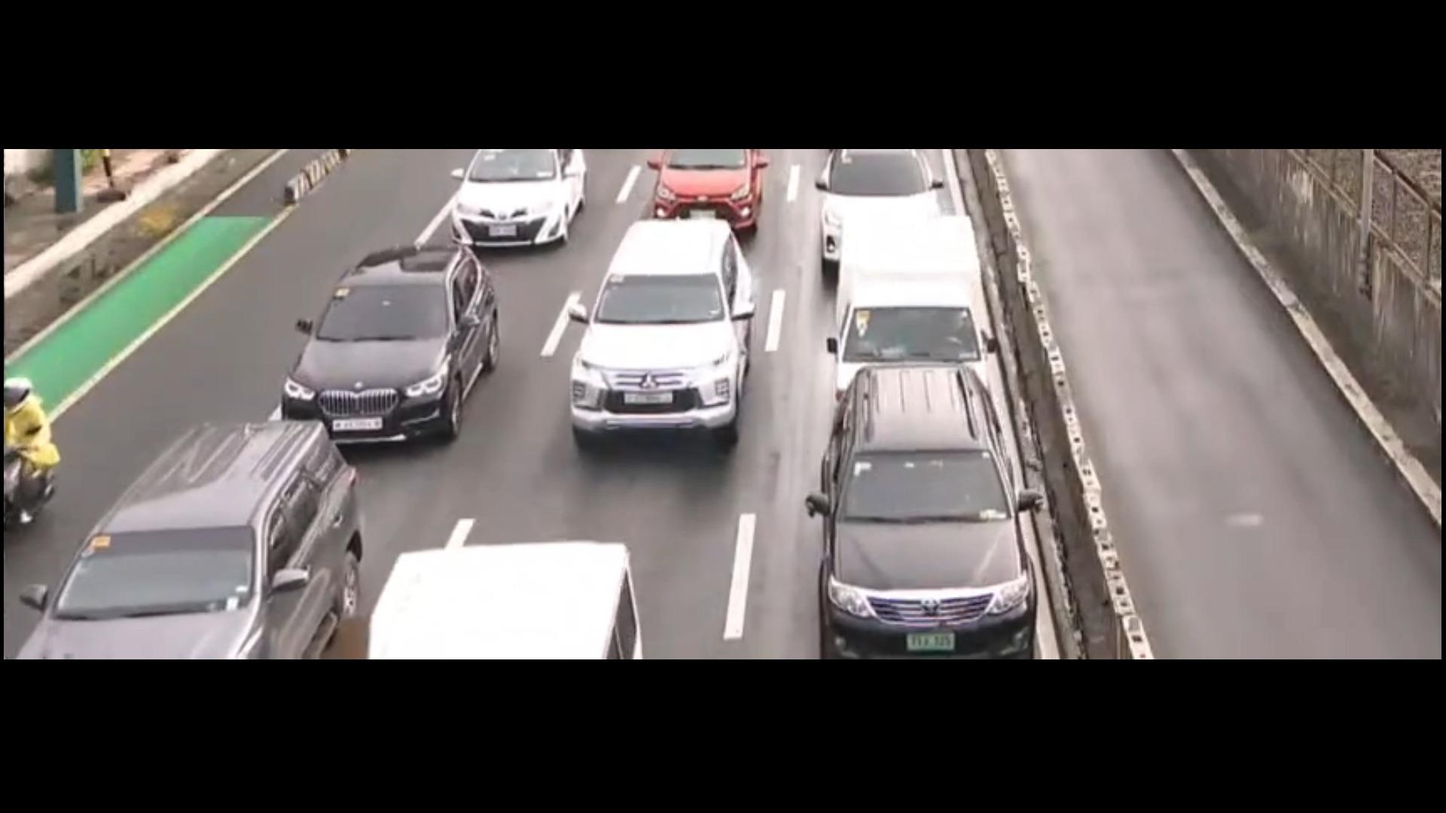Motorcycle: (0, 378, 64, 525)
Multicab: (815, 211, 1002, 423)
SUV: (15, 420, 362, 662), (802, 365, 1039, 661), (565, 215, 757, 446), (810, 145, 938, 273)
Sedan: (271, 235, 501, 454), (441, 154, 586, 248), (642, 149, 764, 230)
